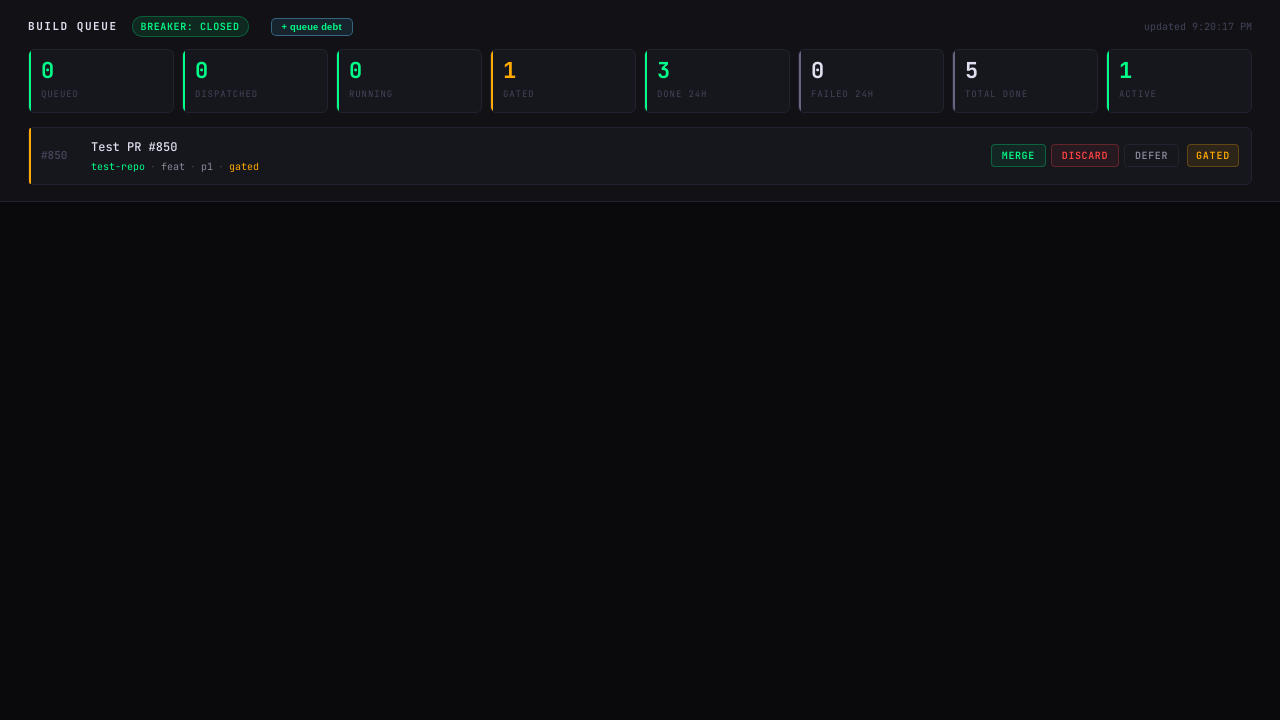
it: QueuePanel — F spec scenarios › F3: defer 2xx clears pending even though item remains gated
The image size is (1280, 720).
What coordinates should you click on to do the following:
click the button "Defer"
I would click on:
 (1152, 156)
Its box is x1=1124 y1=144 x2=1179 y2=167.
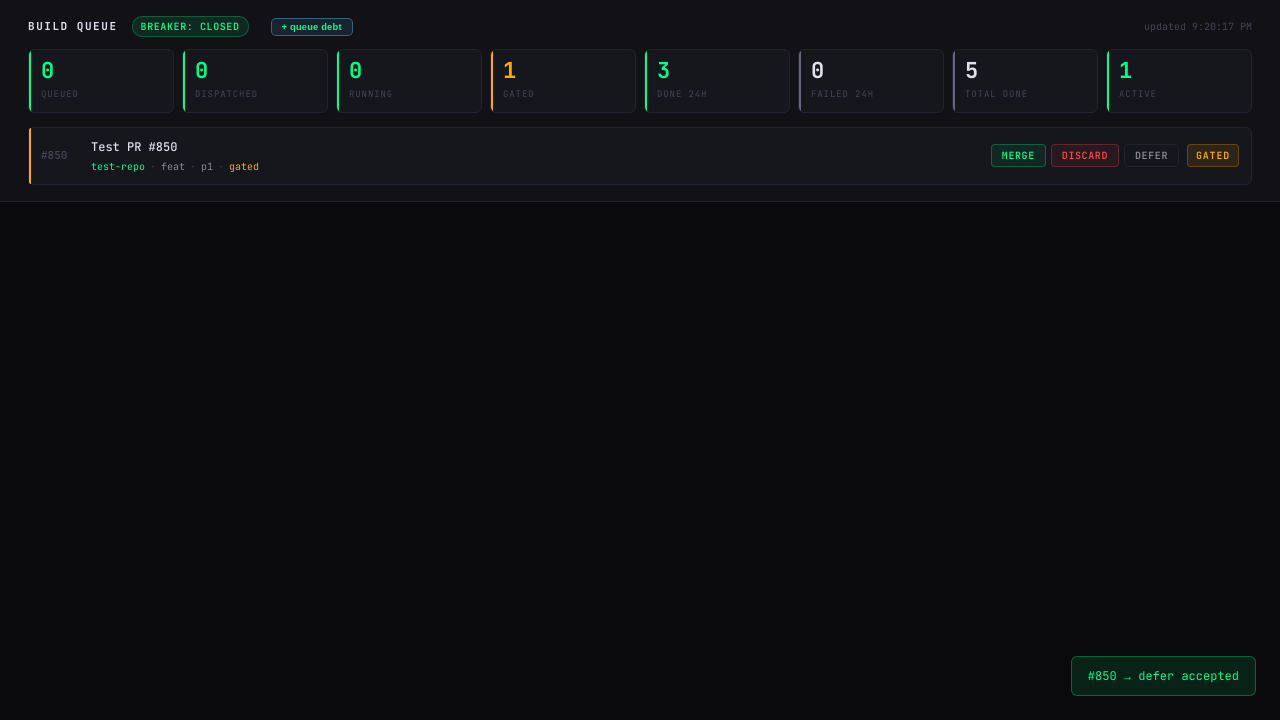
Expected: the button "Merge" is shown, x1=991 y1=144 x2=1046 y2=167
Result: the text "#850 → defer accepted" is shown at x1=1071 y1=656 x2=1256 y2=696
